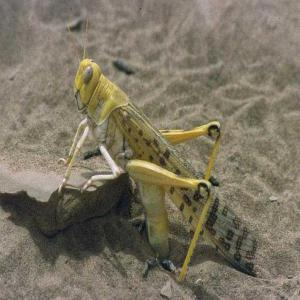locust: (64, 35, 268, 273)
